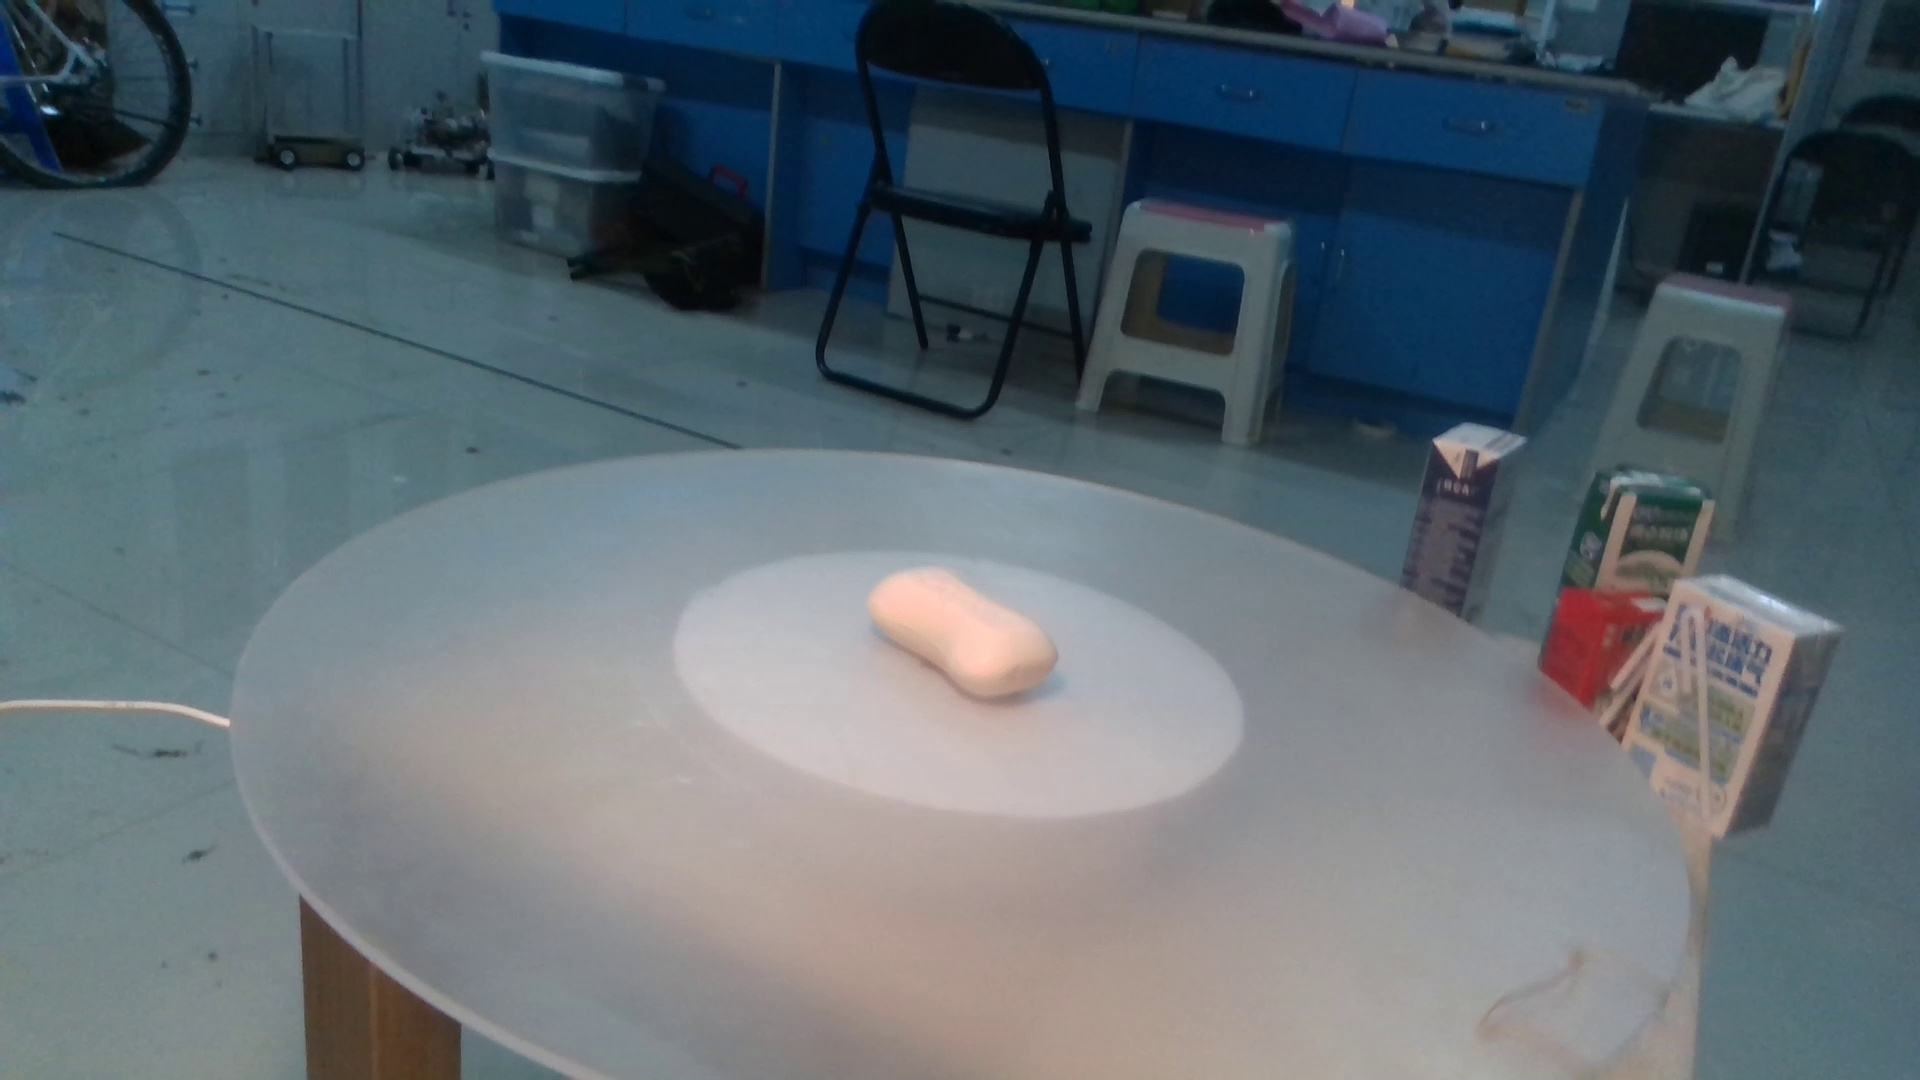CA003_1: (861, 527, 1075, 725)
